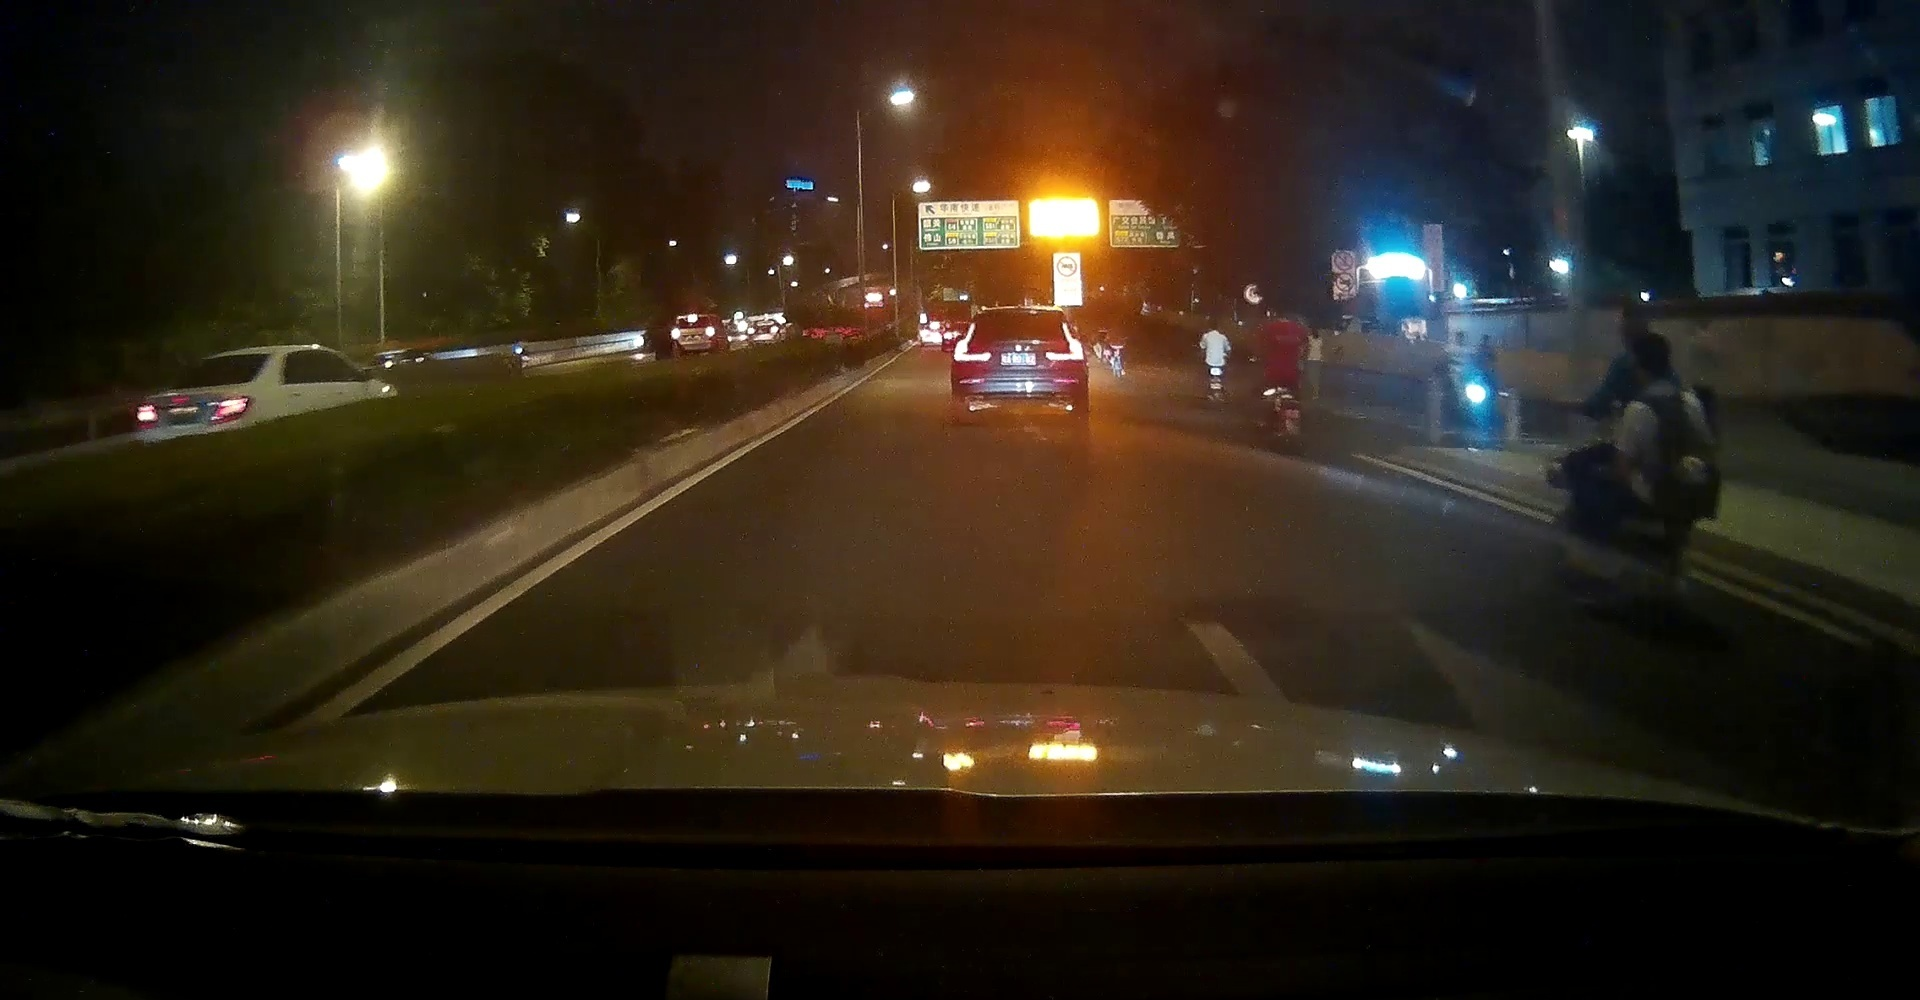L_light: (951, 324, 990, 362)
R_light: (1043, 319, 1086, 362)
T_light: (1008, 310, 1037, 316)
night-no: (949, 306, 1090, 423)
